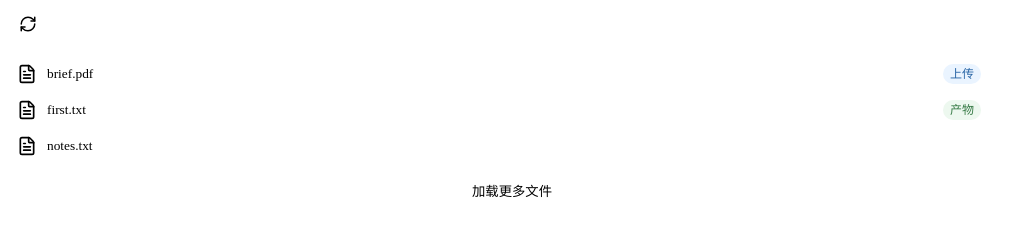
Test: unified workspace root › keeps successful sources visible when outputs fail and retries the failed page
Expected: the button "first.txt 产物" is shown, [8, 92, 1016, 128]
Click the button "加载更多文件".
click(512, 190)  # box [8, 172, 1016, 208]
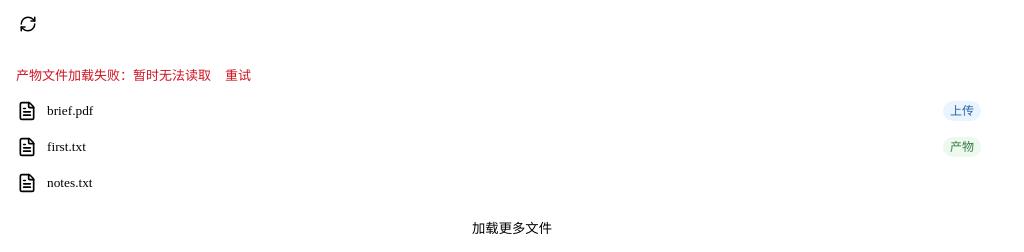
Expected: the button "brief.pdf 上传" is shown, [8, 93, 1016, 129]
Now the message shows "产物文件加载失败", box [16, 64, 257, 85]
Click the button "重试".
click(238, 74)  # box [219, 64, 257, 85]
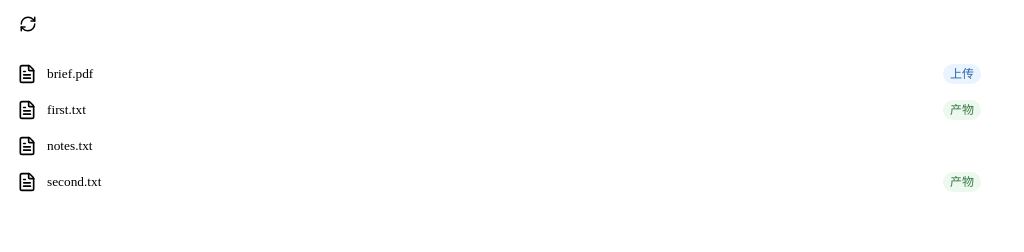
Expected: the button "first.txt 产物" is shown, [8, 92, 1016, 128]
Now the button "second.txt 产物" is shown, box [8, 164, 1016, 200]
Now the message "产物文件加载失败：暂时无法读取 重试" is gone
